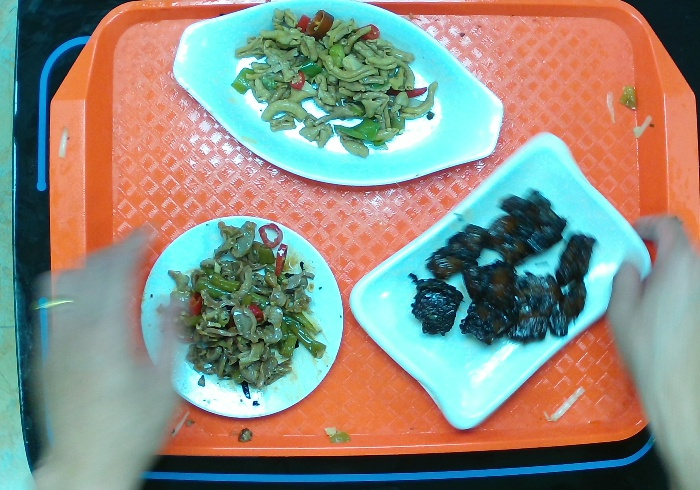RJxy-Si_Fang_Ao_Bian_Wan: (349, 134, 652, 433)
RJxy-Xiao_Yuan_Die: (140, 214, 345, 418)
RJxy-Yu_Pan: (170, 1, 506, 191)
